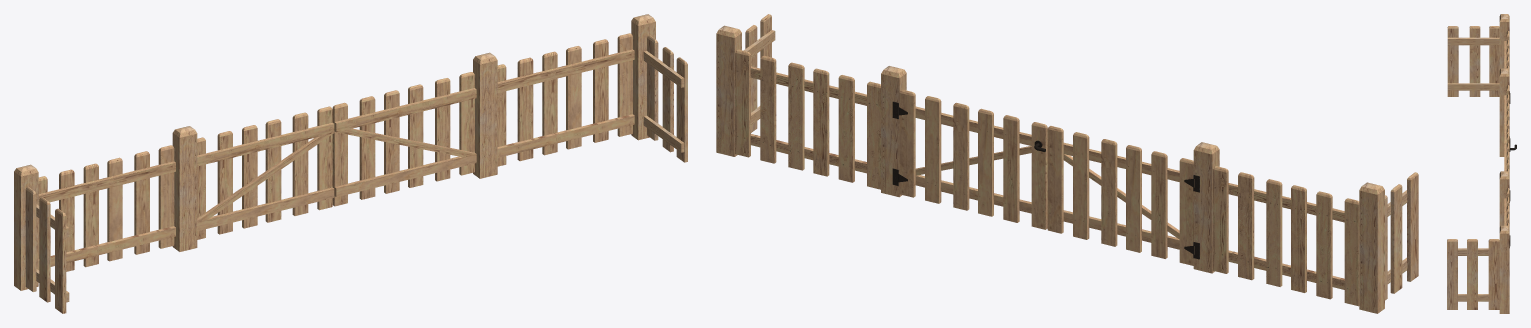
File: Fence.fbx
3 views of the same model, side by side, from view 1: azimuth 30°, elevation 25°; view 2: azimuth 150°, elevation 25°; view 3: azimuth 270°, elevation 25° (orthographic). The views are drawn at different scales.
Parts seen in each view (by area): view 1: Fence_Door_A, Fence_Door_B, Fence_B, Fence_B.001, Fence_A, Fence_A.001, Fence_Door_Pilar.001, Fence_Door_Pilar, Fence_Door_Pilar.003, Fence_Door_Pilar.002; view 2: Fence_Door_A, Fence_Door_B, Fence_B.001, Fence_B, Fence_Door_Pilar.003, Fence_A.001, Fence_Door_Pilar.002, Fence_Door_Pilar.001, Fence_Door_Pilar, Fence_A; view 3: Fence_A.001, Fence_A, Fence_Door_Pilar.002, Fence_Door_Pilar.001, Fence_Door_Pilar, Fence_Door_Pilar.003, Fence_Door_B, Fence_B, Fence_Door_A, Fence_B.001.
Boxes of the visible parts, x1,y1,x2,y2 form: Fence_Door_A: (332, 72, 476, 206); Fence_Door_B: (197, 106, 334, 239); Fence_B: (497, 33, 634, 166); Fence_B.001: (38, 145, 175, 271); Fence_A: (643, 35, 687, 162); Fence_A.001: (25, 187, 69, 313); Fence_Door_Pilar.001: (172, 126, 197, 251); Fence_Door_Pilar: (473, 52, 497, 178); Fence_Door_Pilar.003: (14, 164, 38, 290); Fence_Door_Pilar.002: (631, 14, 655, 140); Fence_Door_A: (899, 89, 1047, 229); Fence_Door_B: (1047, 126, 1193, 265); Fence_B.001: (1212, 166, 1359, 306); Fence_B: (735, 49, 880, 189); Fence_Door_Pilar.003: (1359, 182, 1384, 313); Fence_A.001: (1385, 172, 1418, 300); Fence_Door_Pilar.002: (716, 25, 741, 156); Fence_Door_Pilar.001: (1193, 142, 1219, 273); Fence_Door_Pilar: (881, 66, 906, 197); Fence_A: (743, 14, 775, 132); Fence_A.001: (1447, 26, 1499, 96); Fence_A: (1447, 239, 1499, 309); Fence_Door_Pilar.002: (1499, 225, 1509, 313); Fence_Door_Pilar.001: (1499, 68, 1509, 156); Fence_Door_Pilar: (1499, 171, 1509, 226); Fence_Door_Pilar.003: (1499, 14, 1509, 69); Fence_Door_B: (1504, 85, 1509, 144); Fence_B: (1504, 188, 1509, 227); Fence_Door_A: (1504, 134, 1509, 172); Fence_B.001: (1504, 31, 1509, 69).
Bounding box in the file's own units: 1091 × 196 × 148.
Materials: 7 (7 with a texture image).
